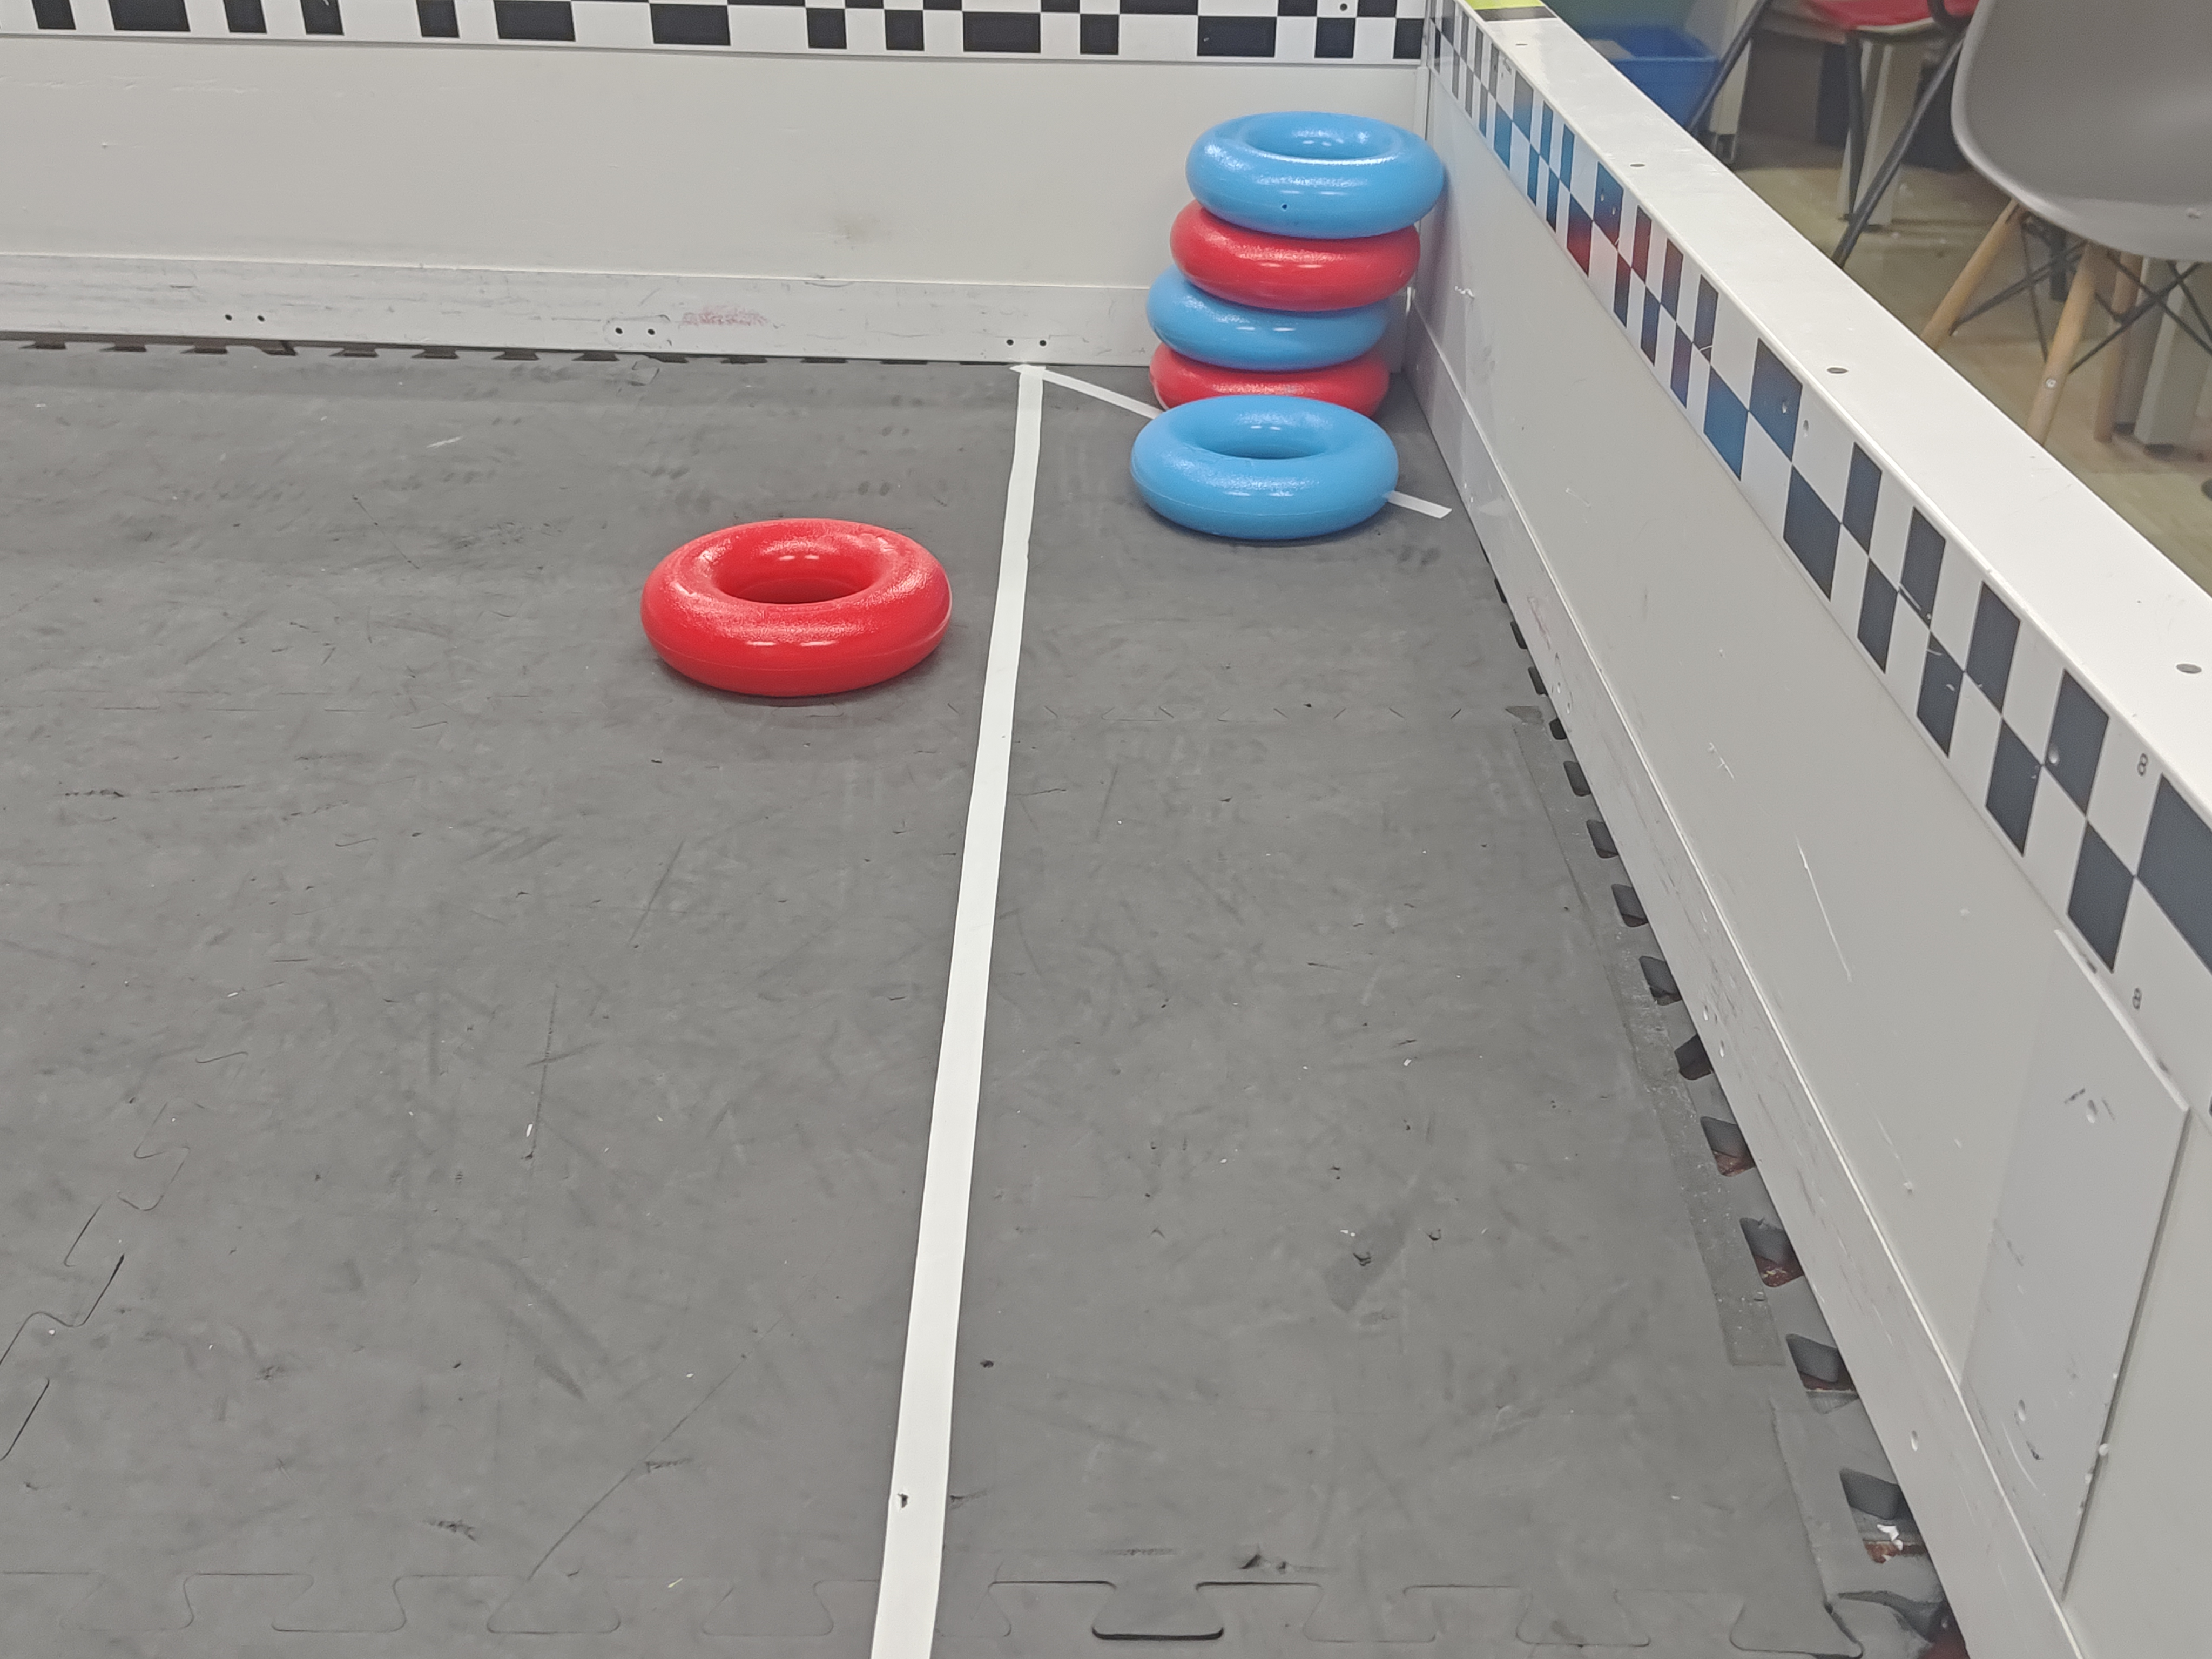blue: (1129, 397, 1393, 545), (1183, 112, 1444, 244), (1150, 267, 1400, 373)
red: (641, 519, 942, 704), (1163, 195, 1418, 321), (1148, 336, 1399, 425)
